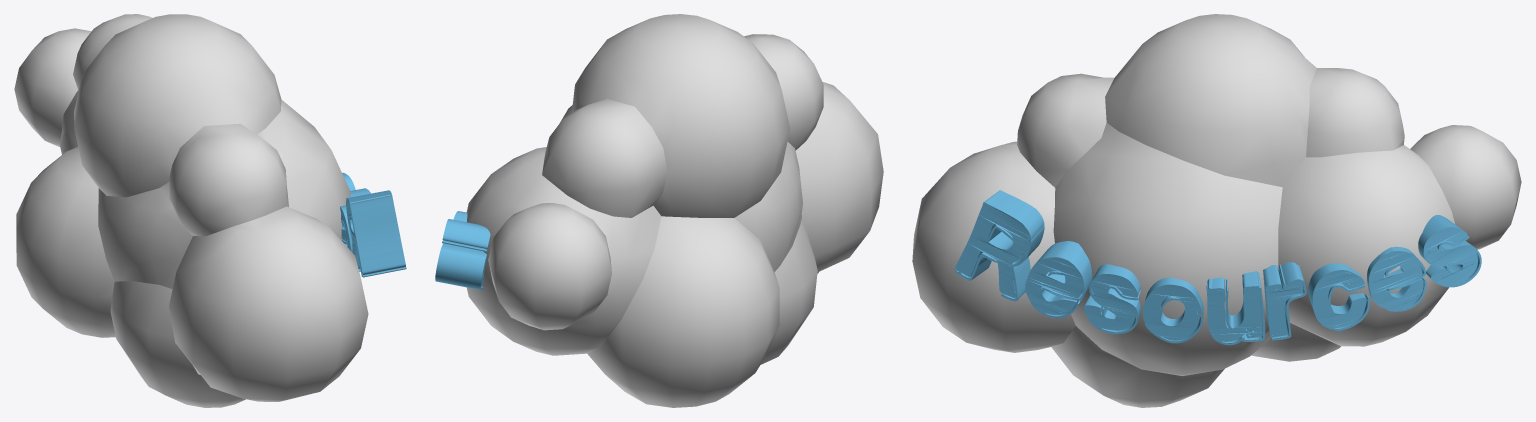
Rendered from infoCloud.gltf.
3 renders of one model, left to right at view 1: azimuth 30°, elevation 25°; view 2: azimuth 150°, elevation 25°; view 3: azimuth 270°, elevation 25°, orthographic. The views are drawn at different scales.
Parts seen in each view (by area): view 1: Object_2.002; view 2: Object_2.002; view 3: Object_2.002.
Boxes of the visible parts, x1,y1,x2,y2 form: Object_2.002: (14, 14, 406, 407); Object_2.002: (435, 14, 883, 407); Object_2.002: (912, 14, 1521, 407).
Size of the model in its own units: 2.14 by 2.67 by 3.97.
